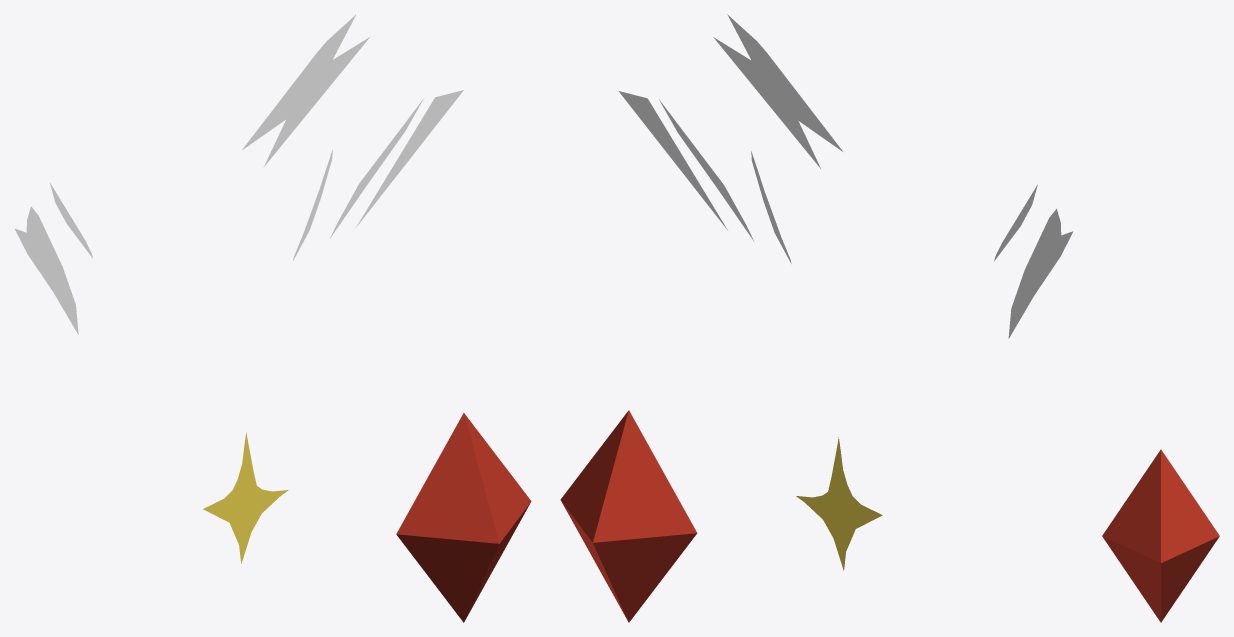
Rendered from Details.fbx.
3 views of the same model, side by side, from view 1: azimuth 30°, elevation 25°; view 2: azimuth 150°, elevation 25°; view 3: azimuth 270°, elevation 25° (orthographic). The views are drawn at different scales.
Visible parts, largest first — view 1: Gem_Ruby, Detail_White, Star.001, Detail_White.001, Detail_White.006, Detail_White.005; view 2: Gem_Ruby, Detail_White, Star.001, Detail_White.001, Detail_White.006, Detail_White.005; view 3: Gem_Ruby.
Boxes of the visible parts, <box> form: Gem_Ruby: <box>396,413,531,622</box>; Detail_White: <box>242,15,369,167</box>; Star.001: <box>203,432,288,563</box>; Detail_White.001: <box>15,206,78,334</box>; Detail_White.006: <box>356,90,463,227</box>; Detail_White.005: <box>330,98,423,238</box>; Gem_Ruby: <box>560,410,697,622</box>; Detail_White: <box>713,14,842,168</box>; Star.001: <box>796,437,882,570</box>; Detail_White.001: <box>1008,208,1073,338</box>; Detail_White.006: <box>618,91,727,230</box>; Detail_White.005: <box>659,99,753,240</box>; Gem_Ruby: <box>1102,449,1219,622</box>.
Bounding box in the file's own units: 44.73 × 52.62 × 10.8.
1 material, 1 textured.
